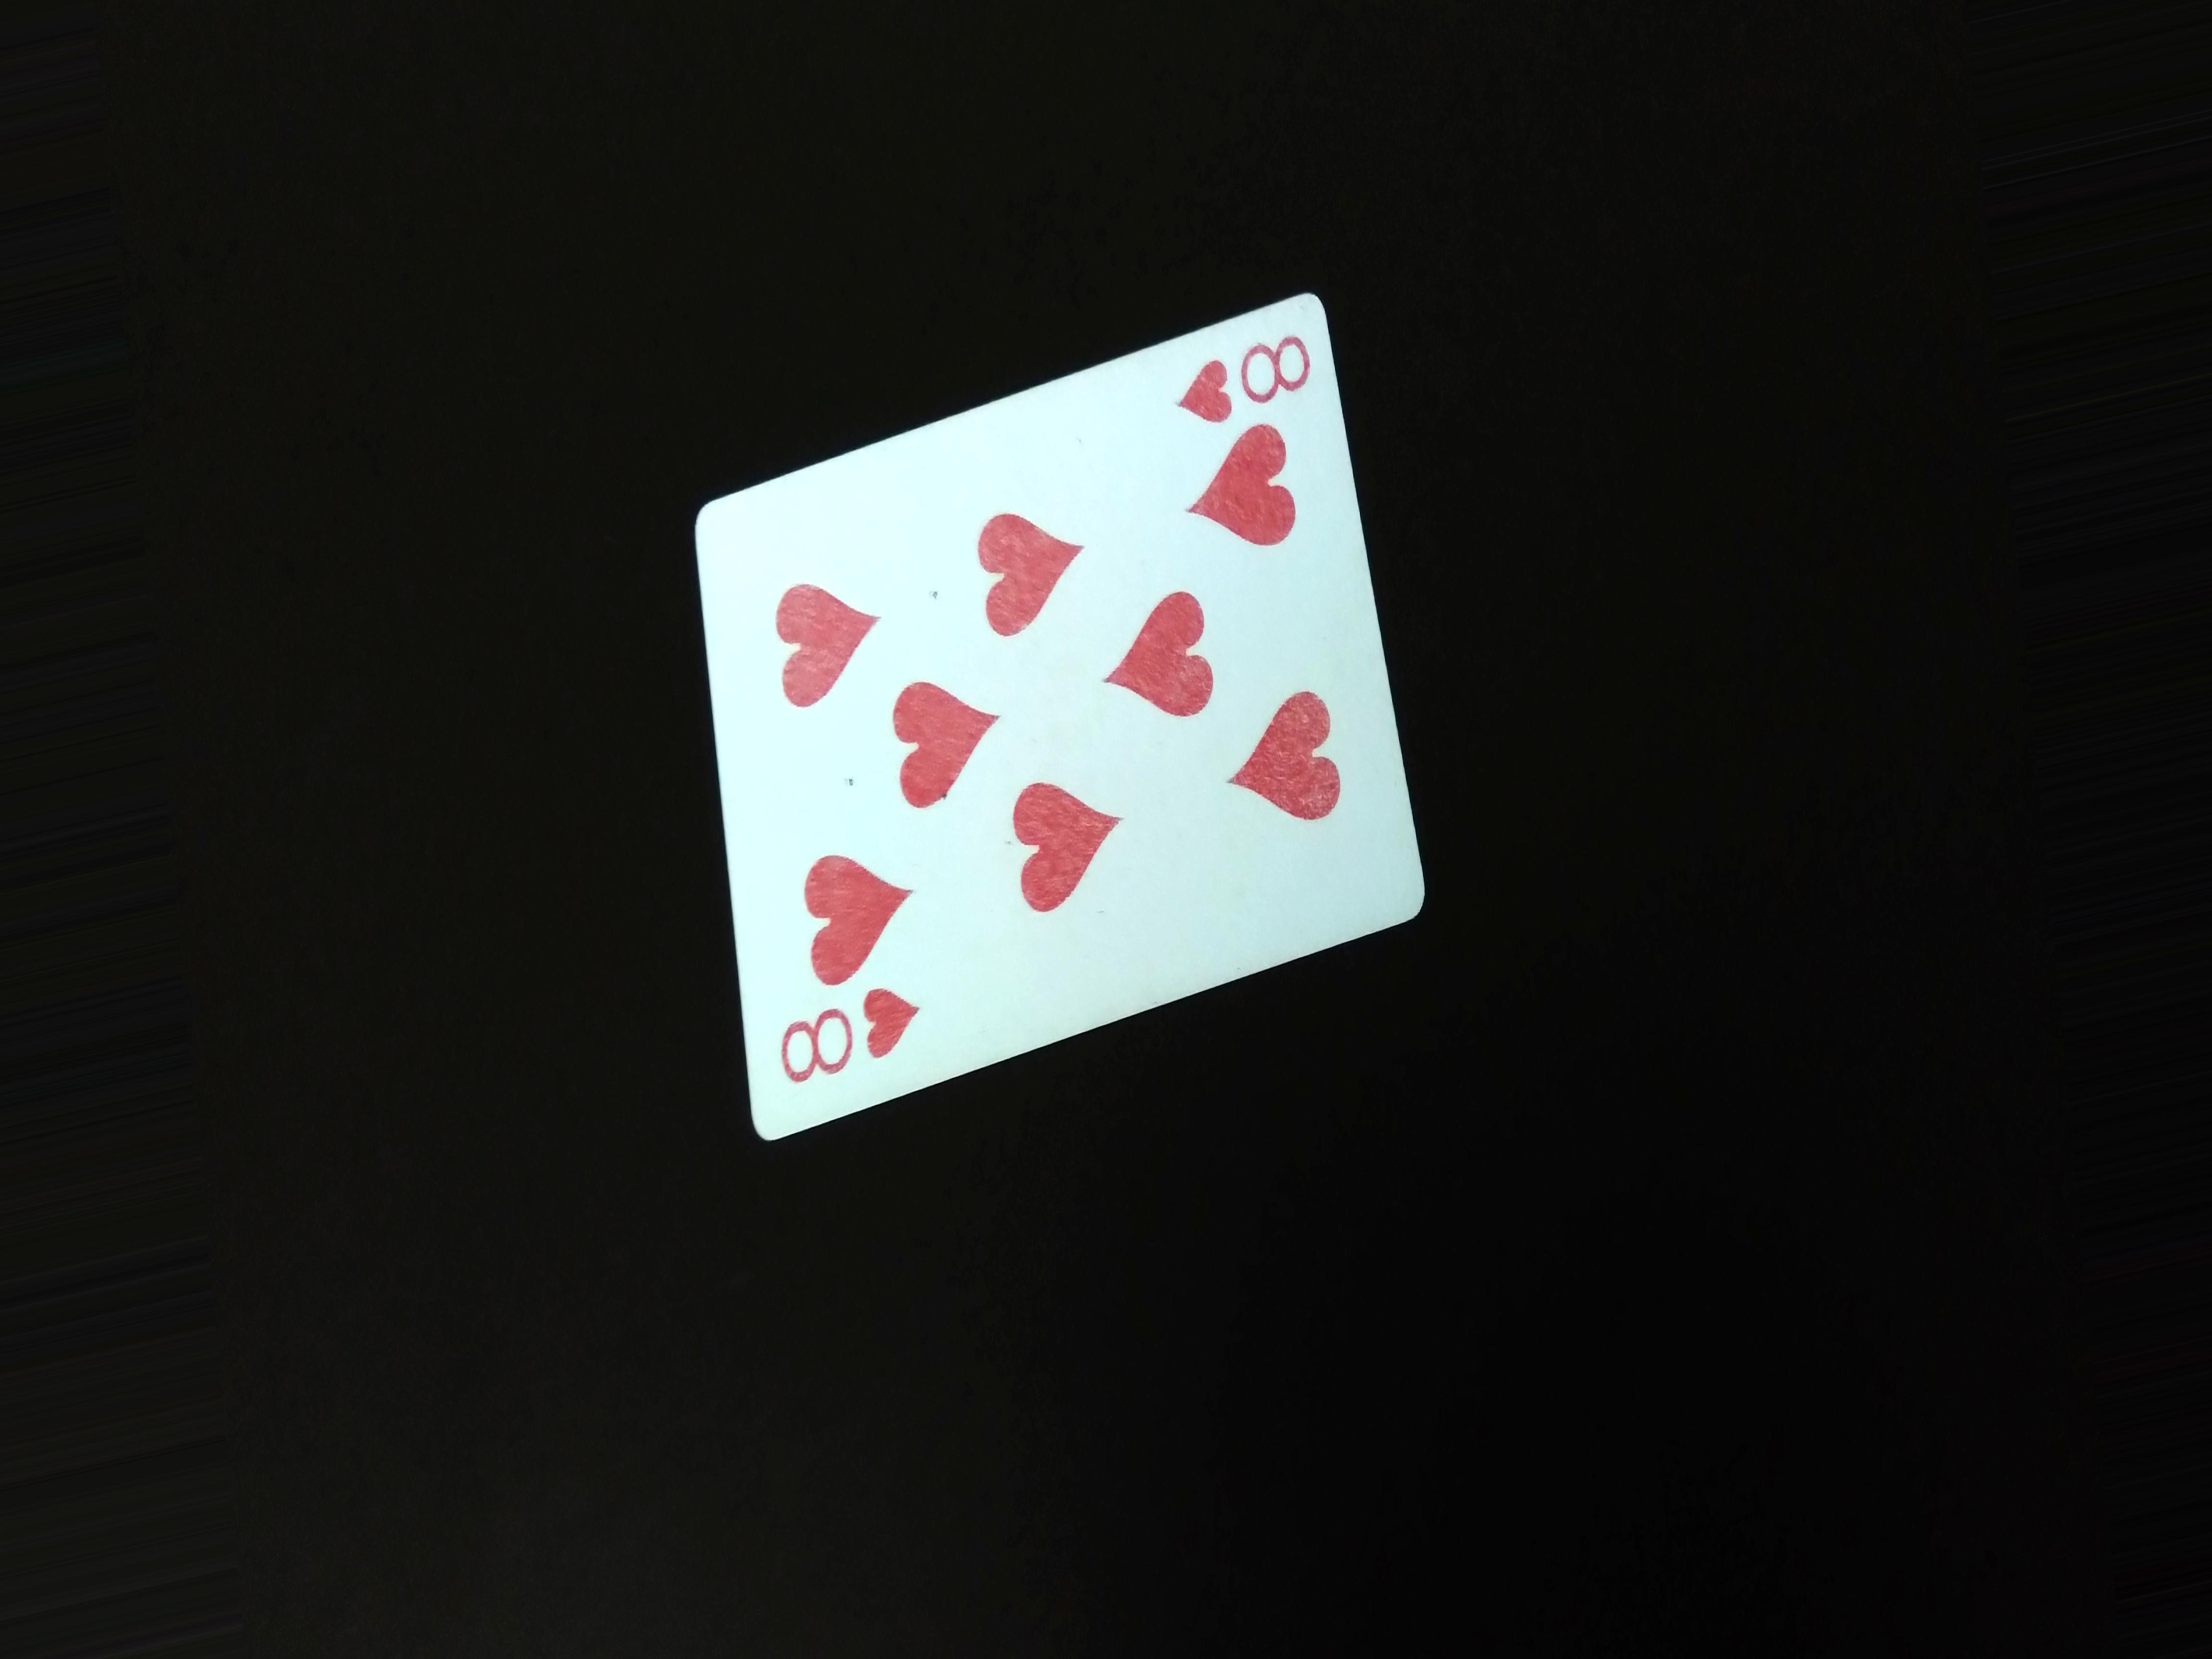8H: (761, 979, 954, 1105)
